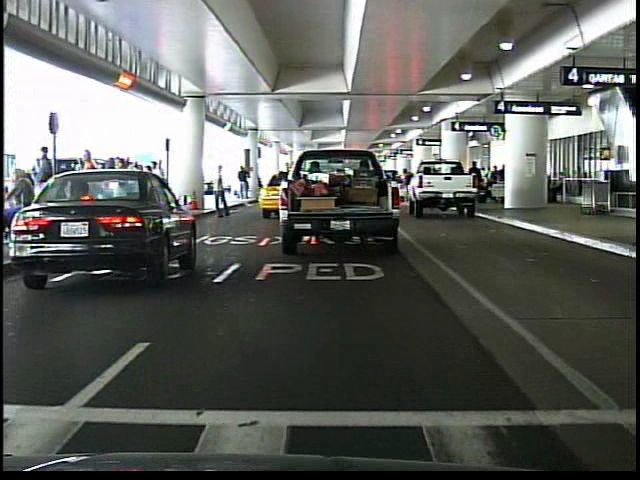person: (73, 147, 102, 232), (7, 164, 36, 224), (210, 162, 233, 222), (237, 162, 255, 198), (399, 164, 414, 205)
